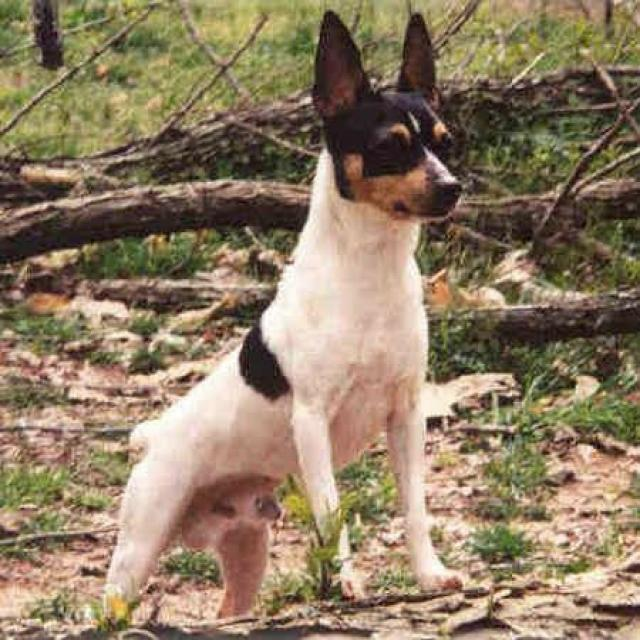toy_terrier: (108, 12, 489, 636)
